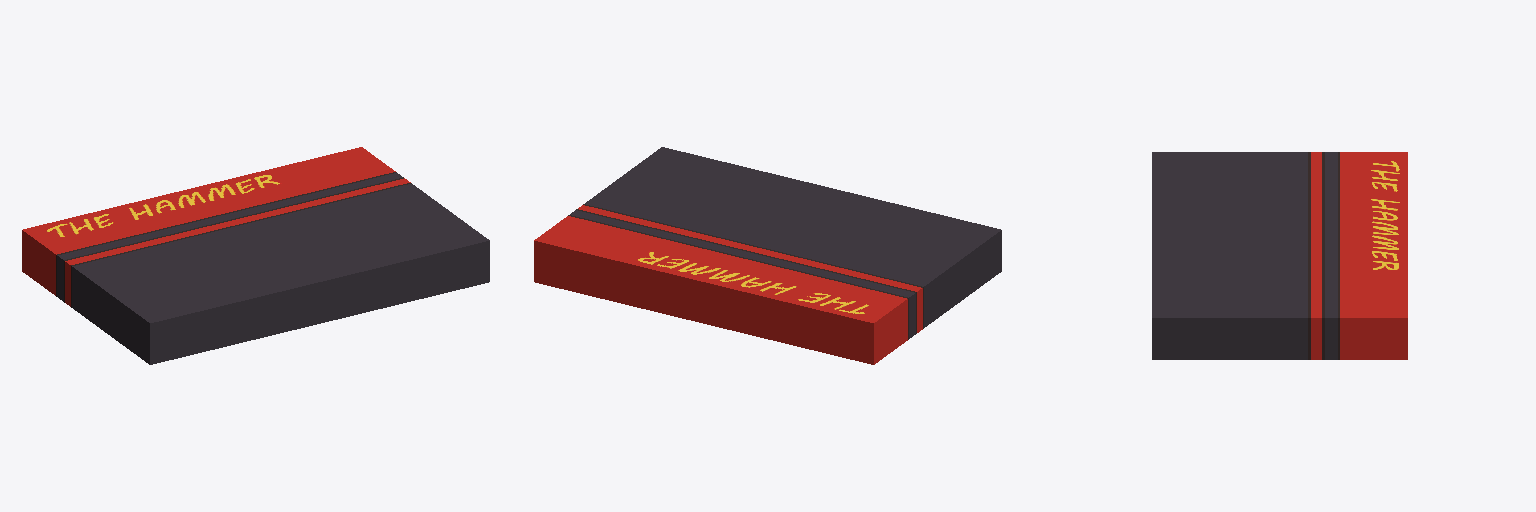
3 views of the same model, side by side, from view 1: azimuth 30°, elevation 25°; view 2: azimuth 150°, elevation 25°; view 3: azimuth 270°, elevation 25° (orthographic).
Visible parts, largest first — view 1: pCube8; view 2: pCube8; view 3: pCube8.
Part boxes in pixels (x1,y1,x2,y2): pCube8: (22,147,489,364); pCube8: (534,147,1001,364); pCube8: (1152,152,1407,359).
Size of the model in its own units: 0.2104 by 0.0246 by 0.1374.
Materials: 1 (1 with a texture image).